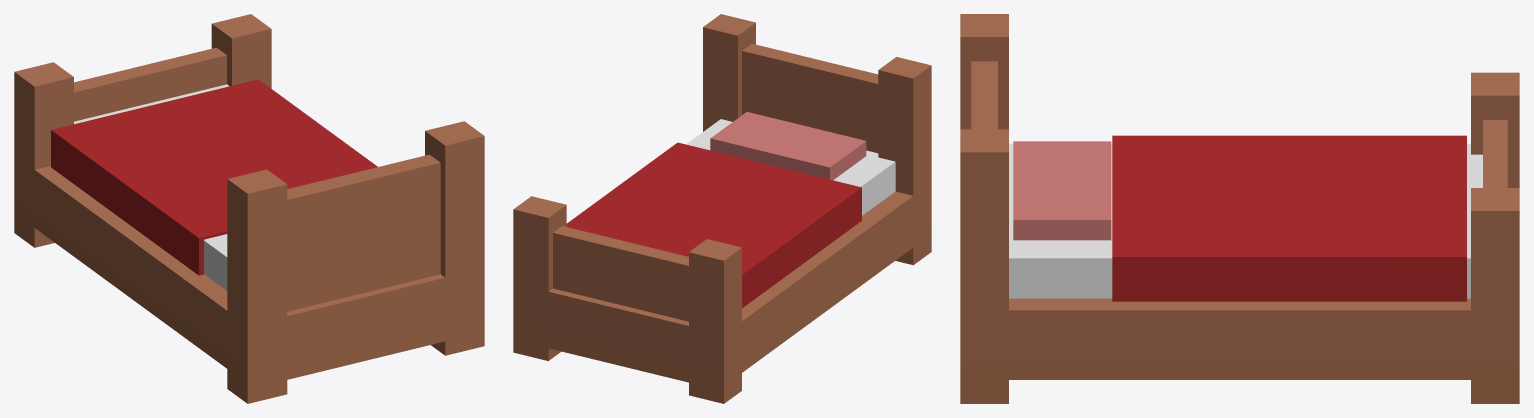
The model's file is Bed.fbx.
The picture shows the model from 3 angles, left to right: view 1: azimuth 30°, elevation 25°; view 2: azimuth 150°, elevation 25°; view 3: azimuth 270°, elevation 25°; orthographic projection. The views are drawn at different scales.
Parts seen in each view (by area): view 1: Bed; view 2: Bed; view 3: Bed.
Part boxes in pixels (left/top/right/bottom): Bed: left=14, top=14, right=484, bottom=403; Bed: left=513, top=14, right=931, bottom=403; Bed: left=960, top=14, right=1519, bottom=403.
Bounding box in the file's own units: 117 × 99.22 × 200.
2 materials, 2 textured.
